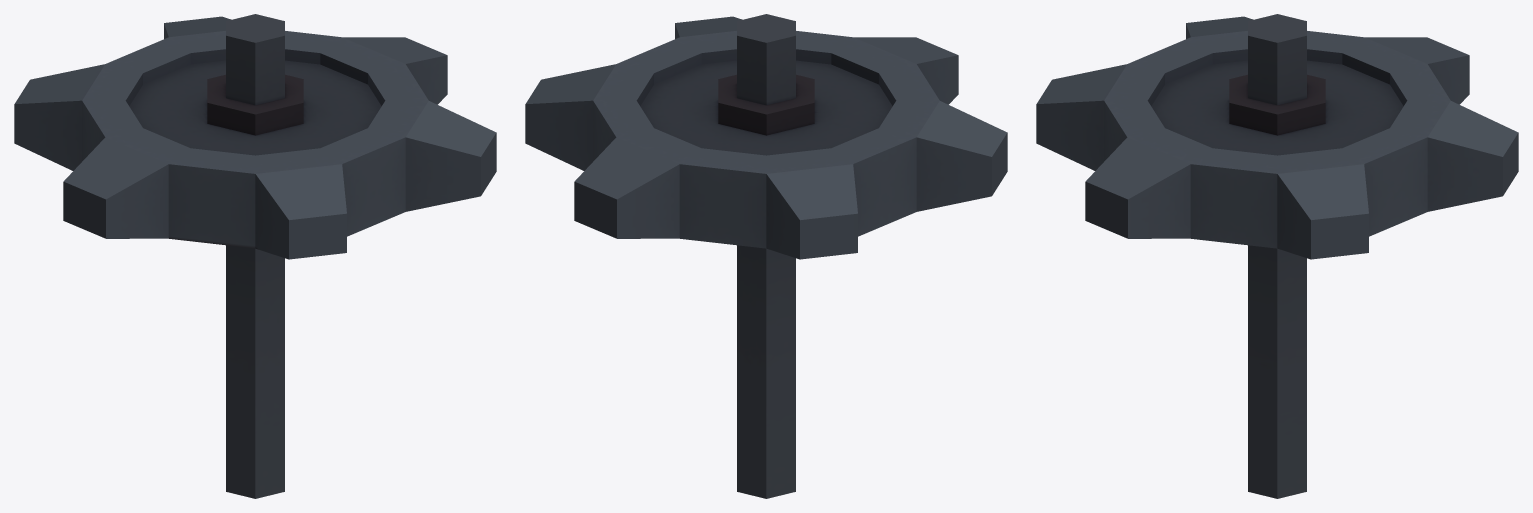
The model's file is Hoop_Trick_01_Spring_01.FBX.
3 renders of one model, left to right at view 1: azimuth 30°, elevation 25°; view 2: azimuth 150°, elevation 25°; view 3: azimuth 270°, elevation 25°, orthographic.
Visible parts, largest first — view 1: Hoop_Trick_01_Spring_01; view 2: Hoop_Trick_01_Spring_01; view 3: Hoop_Trick_01_Spring_01.
Boxes of the visible parts, x1,y1,x2,y2 form: Hoop_Trick_01_Spring_01: (14,14,496,498); Hoop_Trick_01_Spring_01: (525,14,1007,498); Hoop_Trick_01_Spring_01: (1036,14,1518,498).
Bounding box in the file's own units: 3.85 × 4.02 × 3.85.
